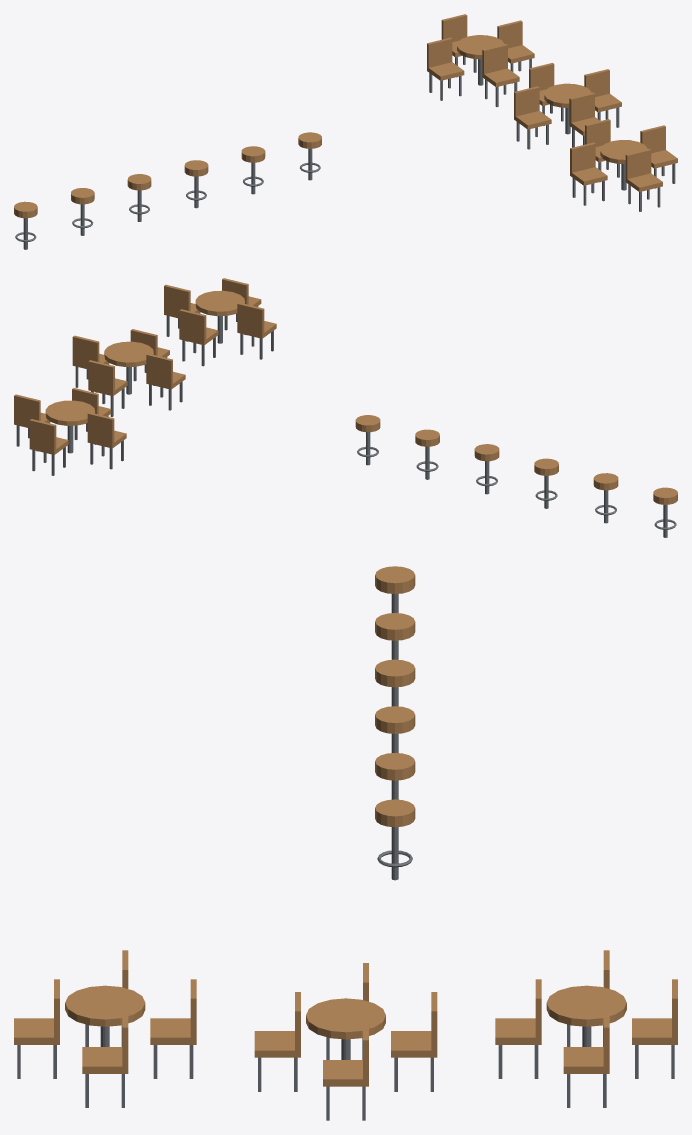
The model's file is bar_furniture.glb.
3 views of the same model, one above another, from view 1: azimuth 30°, elevation 25°; view 2: azimuth 150°, elevation 25°; view 3: azimuth 270°, elevation 25° (orthographic). The views are drawn at different scales.
Visible parts, largest first — view 1: lounge_table_1_top, lounge_table_2_top, lounge_table_3_top, lounge_chair_9_back, lounge_chair_7_back, lounge_chair_11_back, lounge_chair_3_back, lounge_chair_5_back, lounge_chair_1_back, lounge_chair_2_back, lounge_chair_10_back, lounge_chair_6_back (+14 smaller); view 2: lounge_table_1_top, lounge_table_2_top, lounge_table_3_top, lounge_chair_3_back, lounge_chair_10_back, lounge_chair_2_back, lounge_chair_11_back, lounge_chair_7_back, lounge_chair_6_back, lounge_chair_8_back, lounge_chair_12_back, lounge_chair_4_back (+2 smaller); view 3: lounge_table_3_top, lounge_table_1_top, lounge_table_2_top, lounge_chair_12_seat, lounge_chair_4_seat, lounge_chair_6_seat, lounge_chair_1_seat, lounge_chair_10_seat, lounge_chair_5_seat, lounge_chair_2_seat, lounge_chair_8_seat, lounge_chair_9_seat (+6 smaller).
Part boxes in pixels (x1,y1,x2,y2): lounge_table_1_top: (457,35,504,59); lounge_table_2_top: (544,83,591,107); lounge_table_3_top: (600,140,647,164); lounge_chair_9_back: (625,148,651,178); lounge_chair_7_back: (514,86,539,116); lounge_chair_11_back: (570,142,595,172); lounge_chair_3_back: (427,37,452,67); lounge_chair_5_back: (569,92,594,122); lounge_chair_1_back: (482,44,507,74); lounge_chair_2_back: (441,14,467,42); lounge_chair_10_back: (585,119,610,146); lounge_chair_6_back: (529,63,554,90); lounge_table_1_top: (45,400,95,425); lounge_table_2_top: (104,341,153,366); lounge_table_3_top: (195,290,244,316); lounge_chair_3_back: (87,412,114,444); lounge_chair_10_back: (179,309,206,341); lounge_chair_2_back: (29,419,56,450); lounge_chair_11_back: (237,302,264,334); lounge_chair_7_back: (146,353,172,385); lounge_chair_6_back: (88,360,114,391); lounge_chair_8_back: (72,335,99,365); lounge_chair_12_back: (164,284,190,314); lounge_chair_4_back: (14,394,40,424); lounge_table_3_top: (65,985,145,1026); lounge_table_1_top: (546,985,626,1026); lounge_table_2_top: (306,998,385,1039); lounge_chair_12_seat: (82,1047,128,1073); lounge_chair_4_seat: (563,1047,609,1073); lounge_chair_6_seat: (391,1031,437,1057); lounge_chair_1_seat: (495,1018,541,1044); lounge_chair_10_seat: (150,1018,196,1044); lounge_chair_5_seat: (254,1031,300,1057); lounge_chair_2_seat: (632,1018,677,1044); lounge_chair_8_seat: (323,1060,368,1086); lounge_chair_9_seat: (14,1018,59,1044).
Size of the model in its own units: 11.31 by 0.9 by 6.62.
